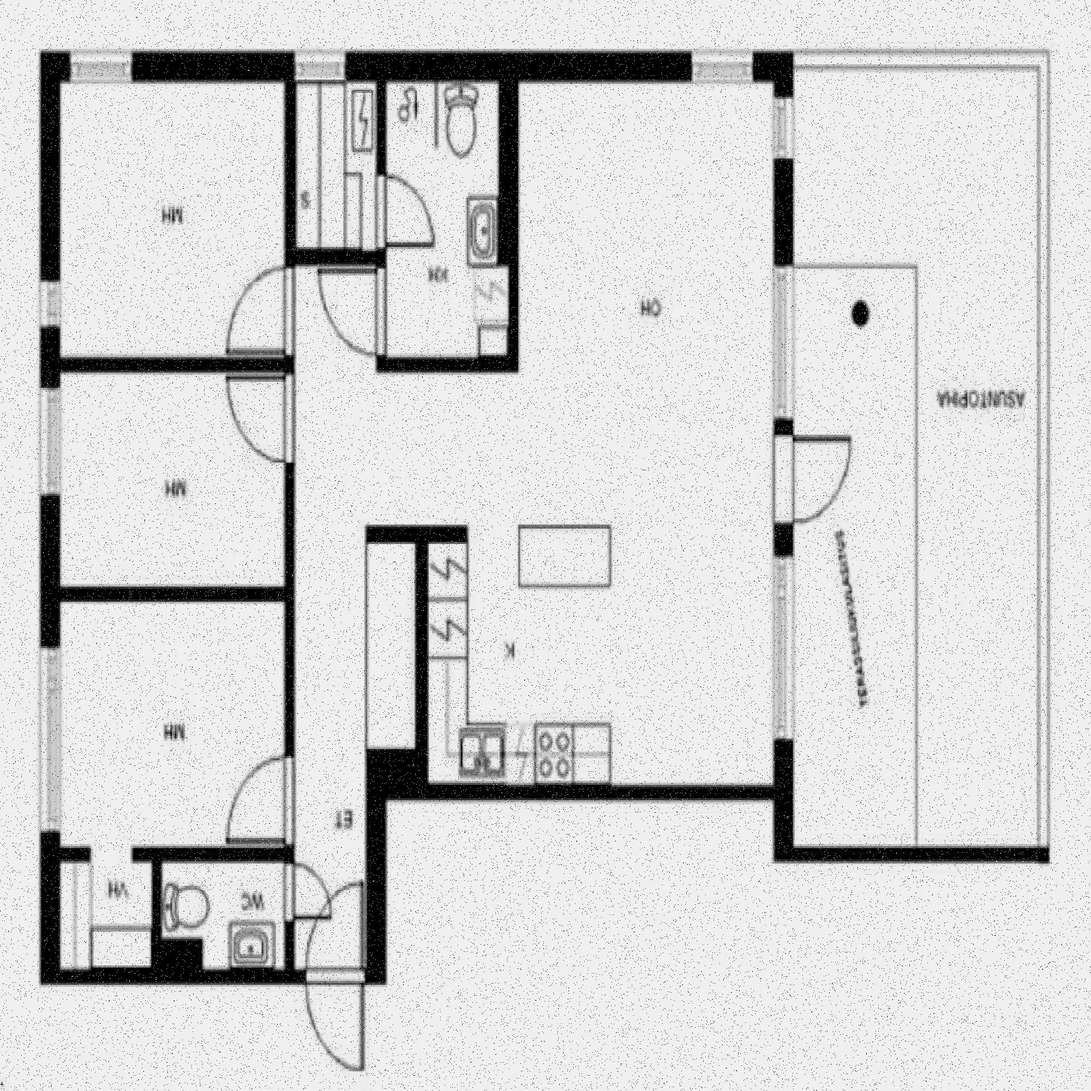wall: (41, 51, 793, 80), (41, 51, 60, 985), (773, 51, 792, 798), (285, 264, 294, 984), (41, 969, 386, 985), (428, 785, 793, 799), (367, 749, 386, 985), (499, 51, 517, 265), (773, 847, 1047, 861), (41, 357, 294, 370), (41, 588, 294, 601), (416, 526, 428, 799), (366, 748, 427, 798), (153, 940, 201, 985), (285, 51, 295, 265), (132, 847, 294, 860), (377, 51, 386, 265), (377, 357, 517, 370), (285, 250, 386, 265), (773, 799, 792, 861), (367, 526, 428, 542), (377, 265, 386, 370), (508, 265, 517, 370), (153, 847, 161, 940), (428, 526, 468, 542), (41, 847, 90, 860)
